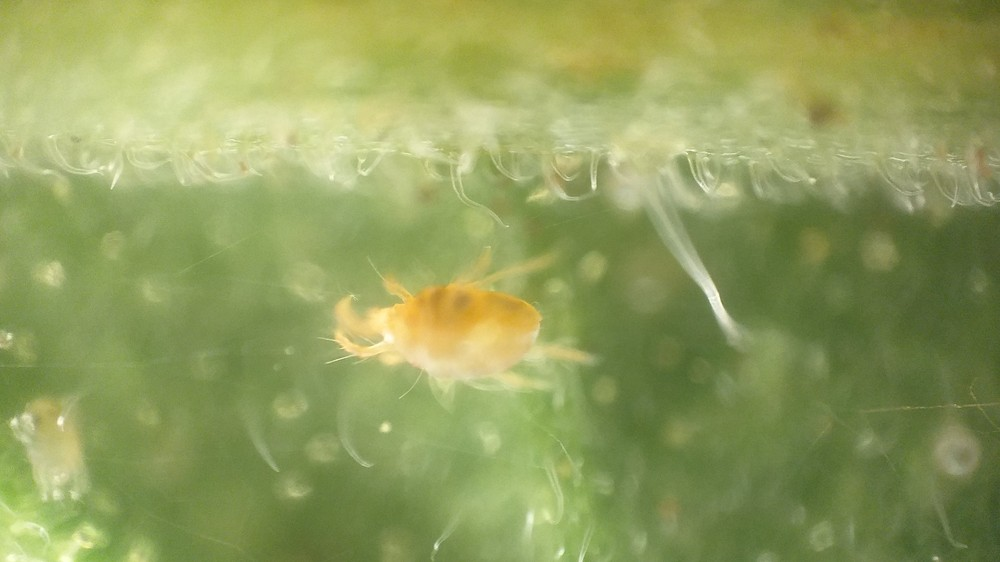Aracnido Rojo: (327, 229, 638, 429)
